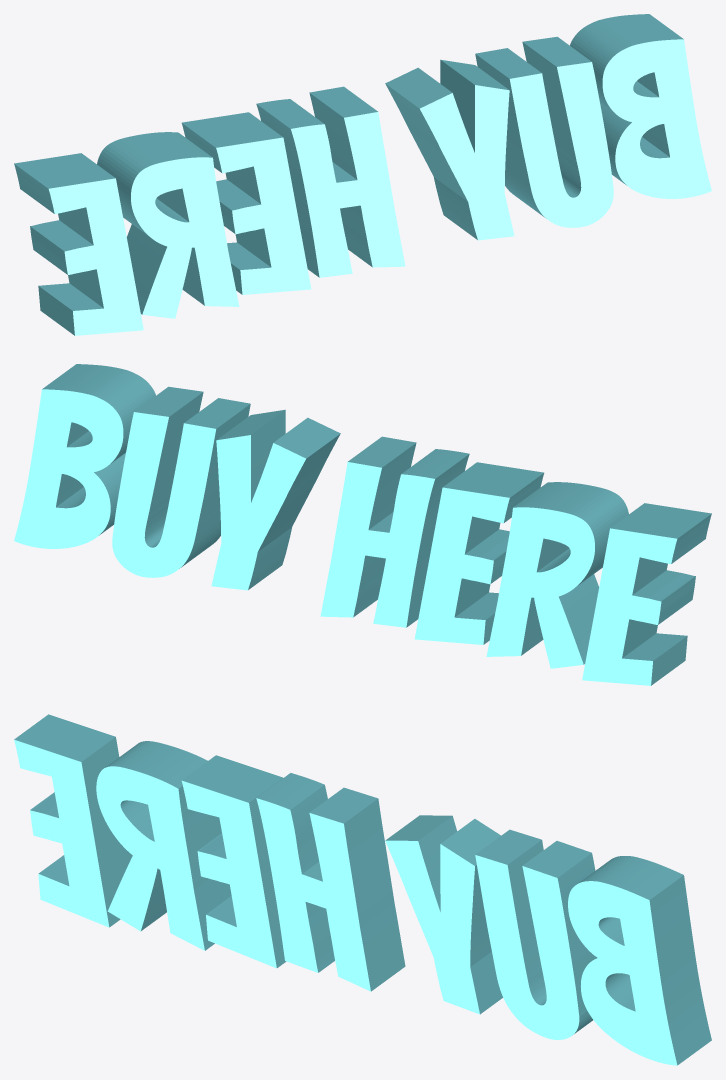
Rendered from text-buy.glb.
3 renders of one model, top to bottom at view 1: azimuth 30°, elevation 25°; view 2: azimuth 150°, elevation 25°; view 3: azimuth 330°, elevation 25°, orthographic.
Visible parts, largest first — view 1: Face, Side; view 2: Face, Side; view 3: Face, Side.
Boxes of the visible parts, left/top/right/bottom form: Face: left=48, top=39, right=711, bottom=335; Side: left=14, top=14, right=683, bottom=335; Face: left=14, top=389, right=677, bottom=685; Side: left=42, top=364, right=711, bottom=685; Face: left=14, top=739, right=677, bottom=1065; Side: left=14, top=714, right=711, bottom=1065.
Bounding box in the file's own units: 3.11 × 0.758 × 0.28.
